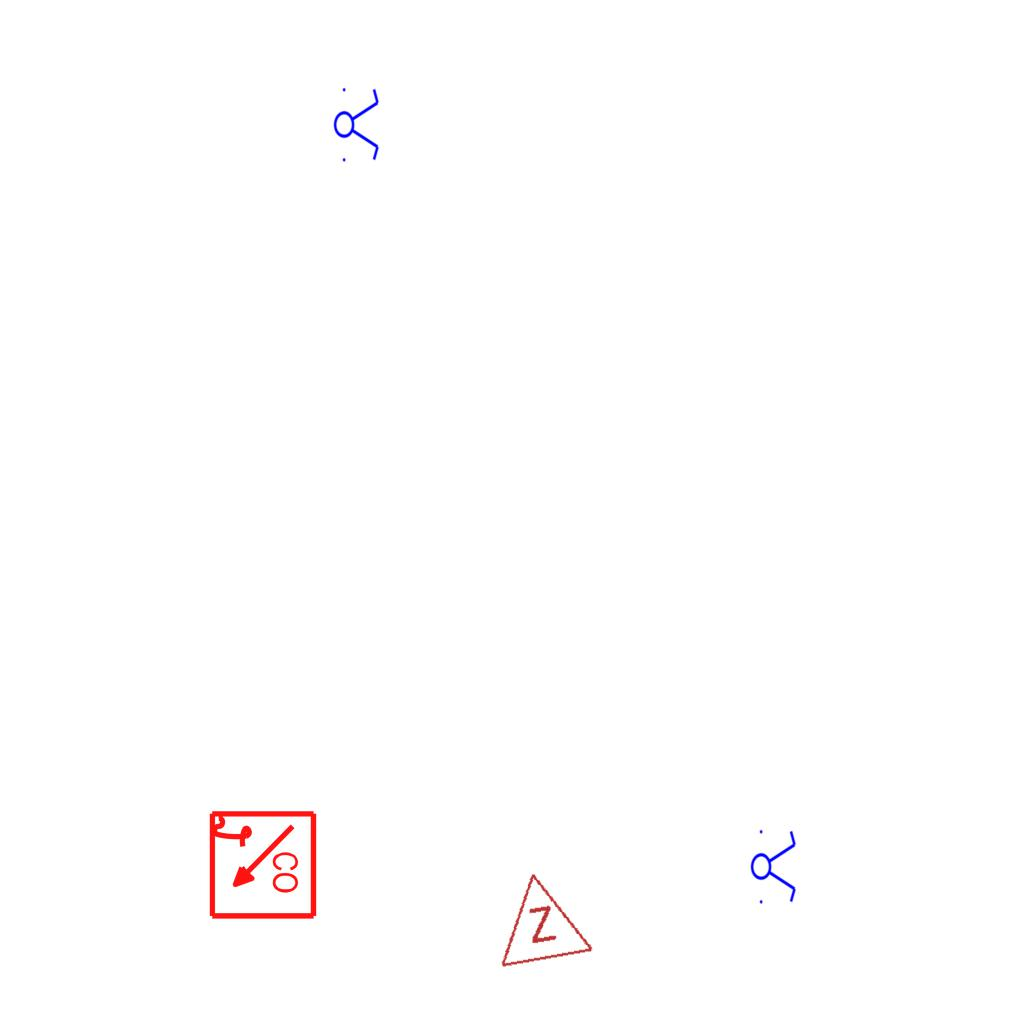ROA_Rauchmelder_optisch_mit_Signalgeber_(Sockelsirene): (205, 809, 318, 922)
Serienschalter: (333, 82, 381, 166), (750, 824, 798, 908)
Zimmersignalleuchte: (482, 859, 596, 975)
